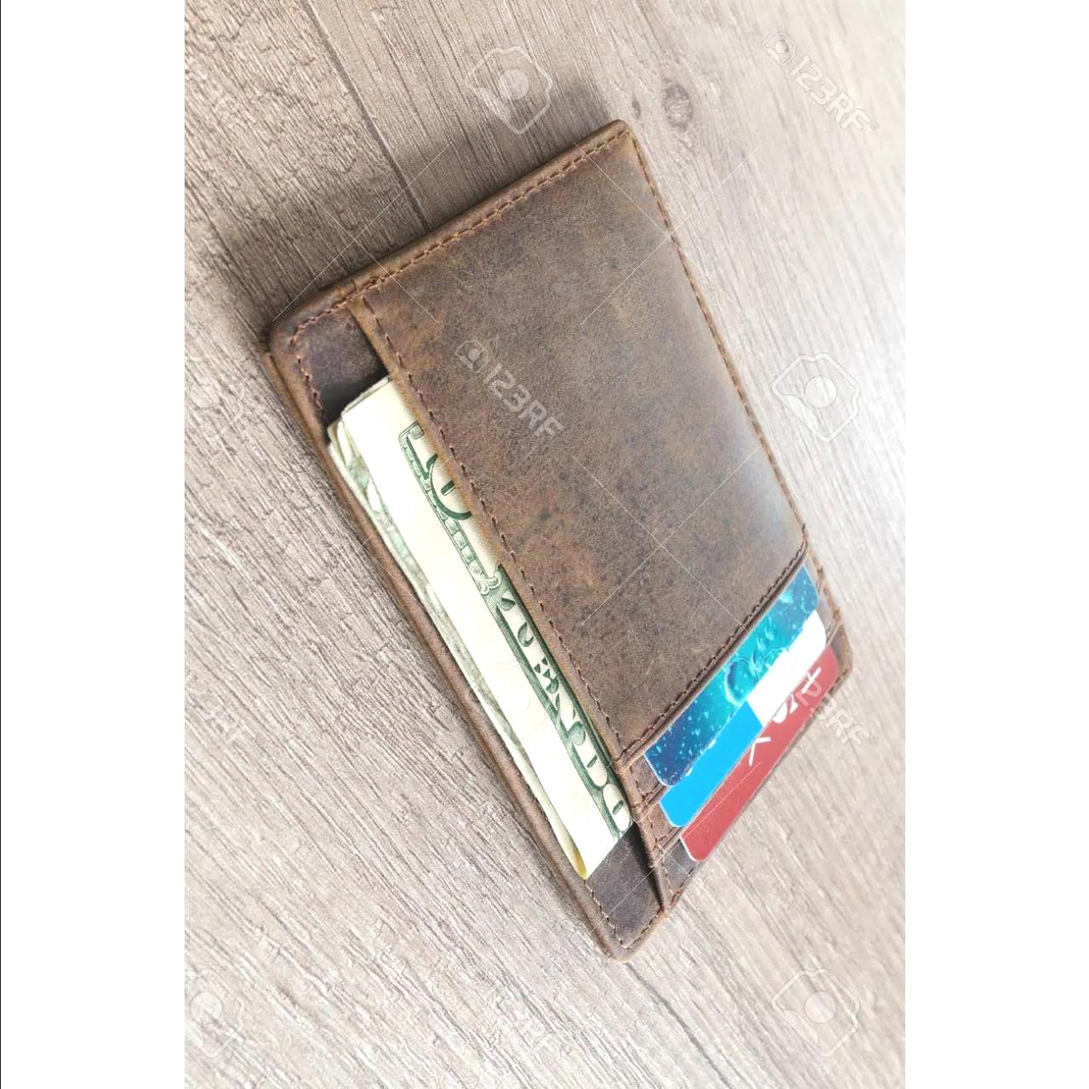wallet: (246, 81, 875, 1032)
